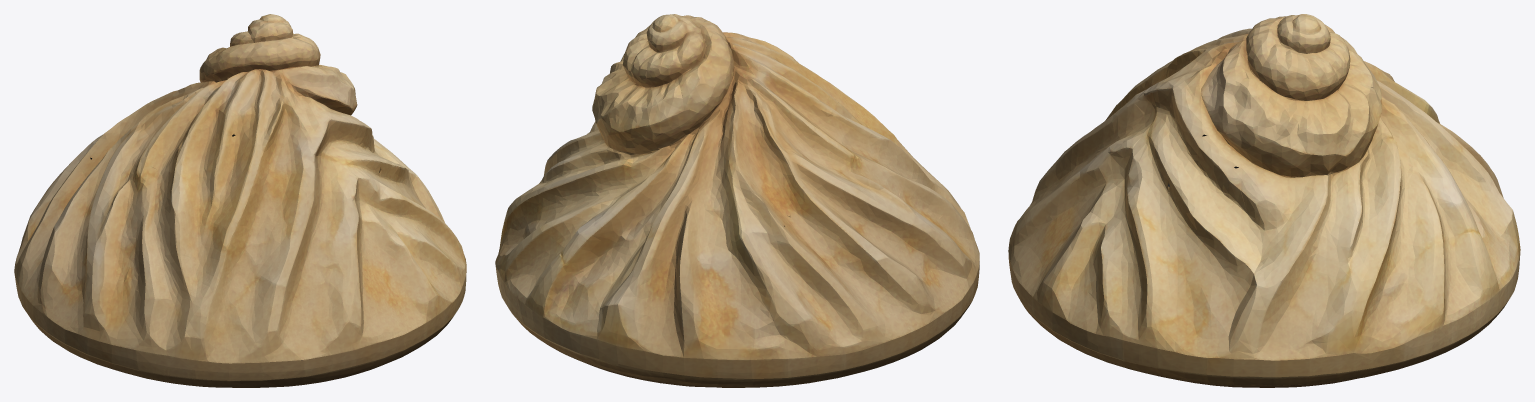
3 renders of one model, left to right at view 1: azimuth 30°, elevation 25°; view 2: azimuth 150°, elevation 25°; view 3: azimuth 270°, elevation 25°, orthographic. The views are drawn at different scales.
Visible parts, largest first — view 1: world; view 2: world; view 3: world.
Part boxes in pixels (x1,y1,x2,y2): world: (14, 14, 466, 387); world: (495, 14, 979, 387); world: (1008, 14, 1520, 387).
Size of the model in its own units: 0.9967 by 0.6437 by 0.9994.
Materials: 1 (1 with a texture image).
